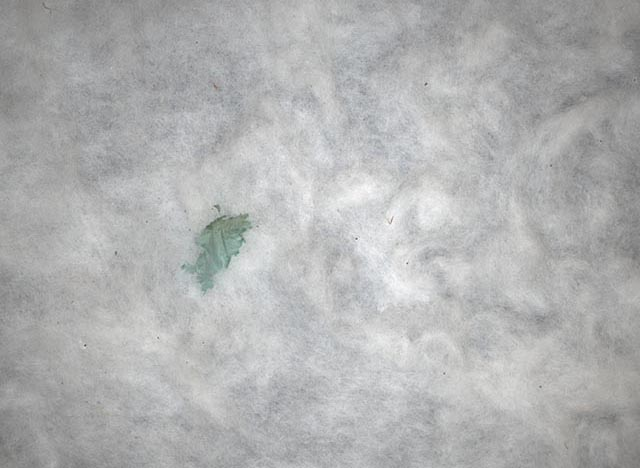plastic film: (181, 210, 251, 292)
